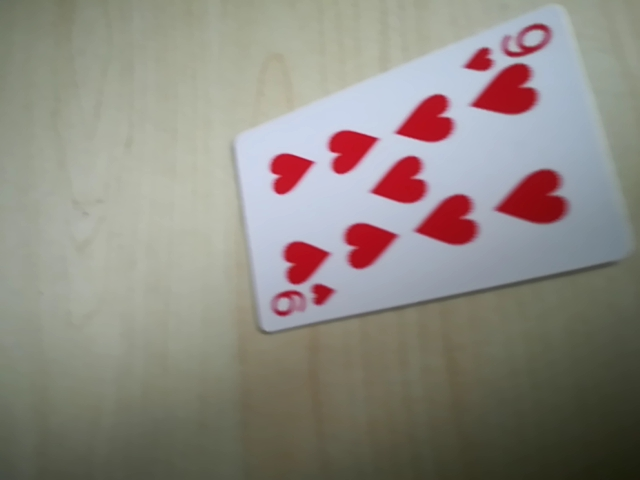hx 9: (458, 19, 557, 74), (264, 278, 339, 327)
